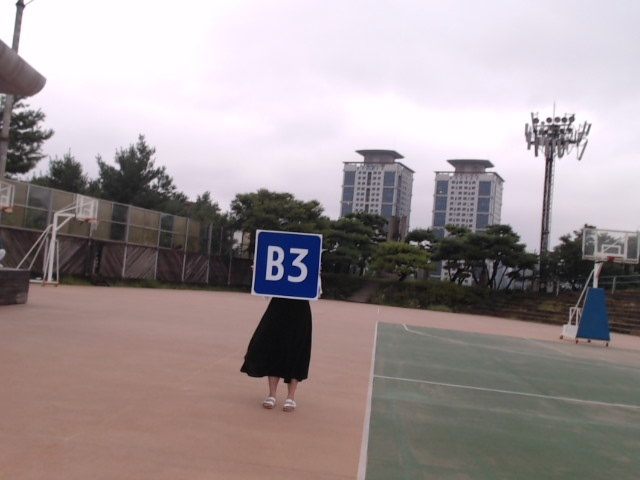delivery_b3: (253, 229, 321, 300)
